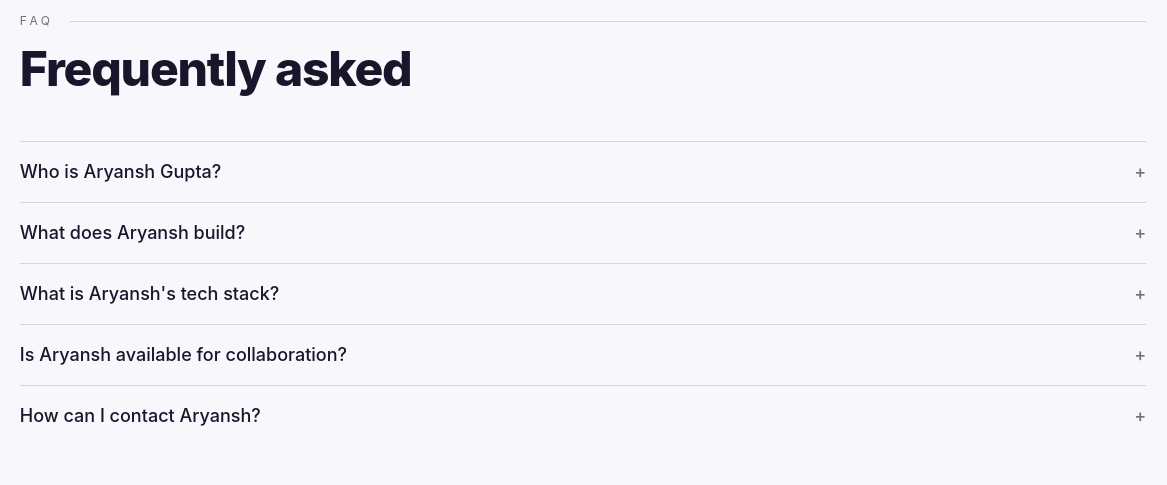
Faq › toggles an answer open when its button is clicked
Click the button "Who is Aryansh Gupta? +".
click(121, 172)  # box [20,142,1146,202]
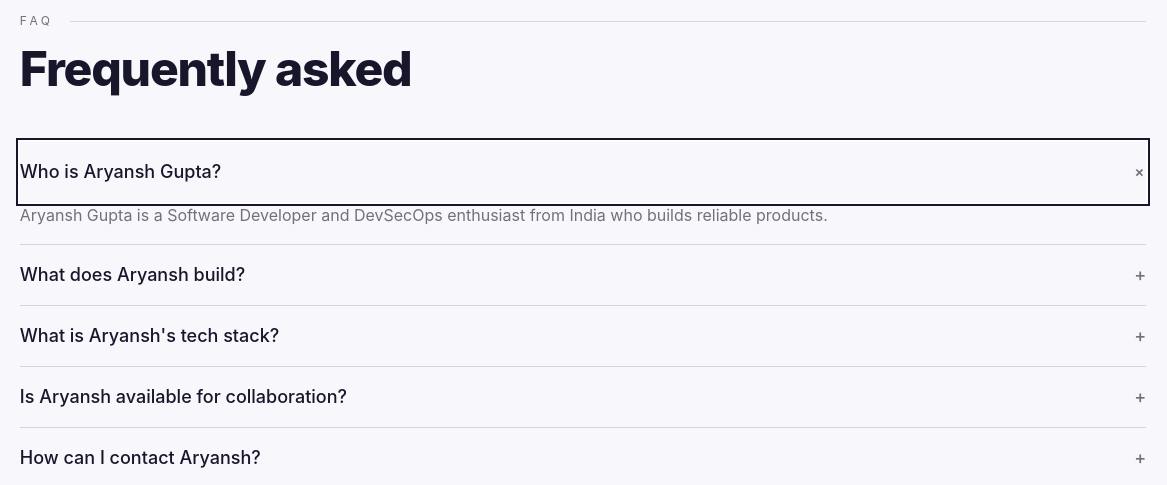
Expected: the button "Who is Aryansh Gupta? +" is expanded, [20,142,1146,202]
Expected: the text "Software Developer and DevSecOps enthusiast" is shown, [20,205,828,225]
